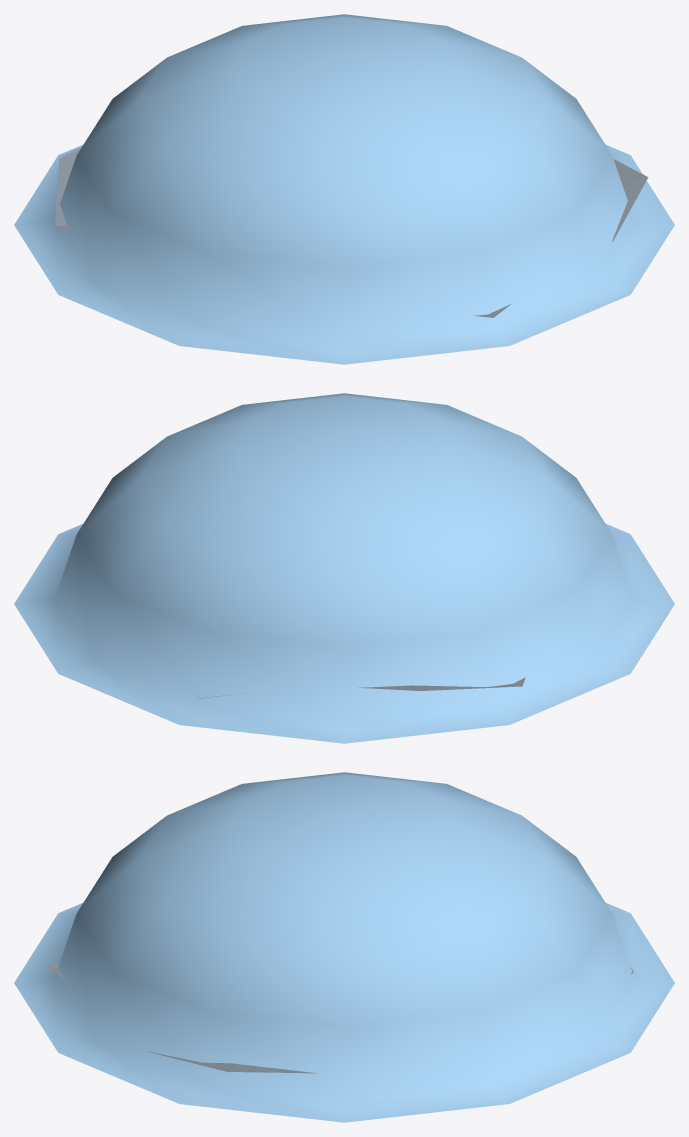
File: bubbles.glb
3 renders of one model, top to bottom at view 1: azimuth 30°, elevation 25°; view 2: azimuth 150°, elevation 25°; view 3: azimuth 270°, elevation 25°, orthographic.
Visible parts, largest first — view 1: Bubble, Popped; view 2: Bubble, Popped; view 3: Bubble, Popped.
Part boxes in pixels (x1,y1,x2,y2): Bubble: (14, 14, 674, 364); Popped: (55, 147, 648, 317); Bubble: (14, 393, 674, 743); Popped: (195, 677, 525, 698); Bubble: (14, 772, 674, 1122); Popped: (47, 962, 633, 1073).
Bounding box in the file's own units: 0.456 × 0.128 × 0.456.
